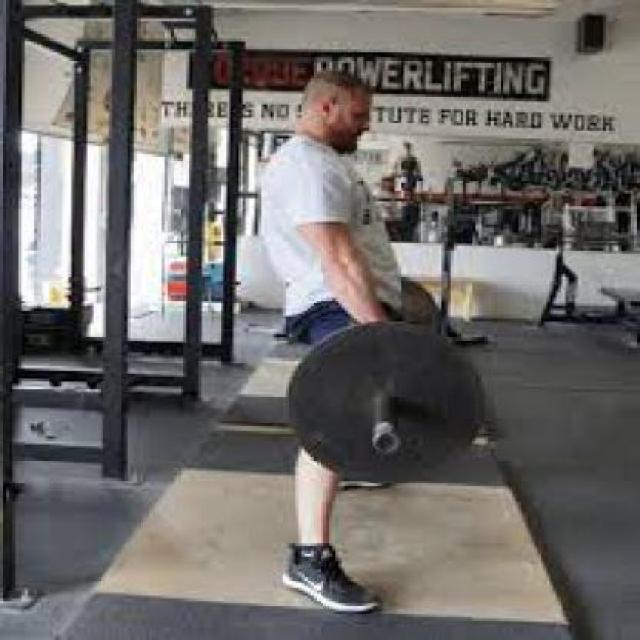Barbell: (371, 428, 400, 454)
